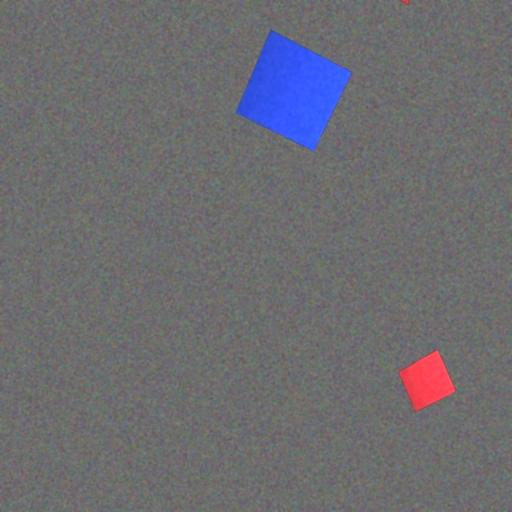BLUE_SQUARE: (235, 29, 353, 152)
RED_SQUARE: (398, 349, 456, 413)
